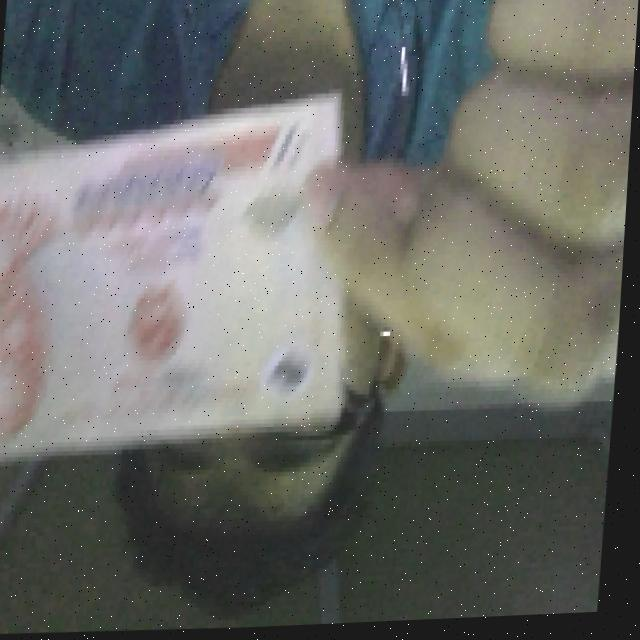200 000 VND: (0, 86, 377, 483)
